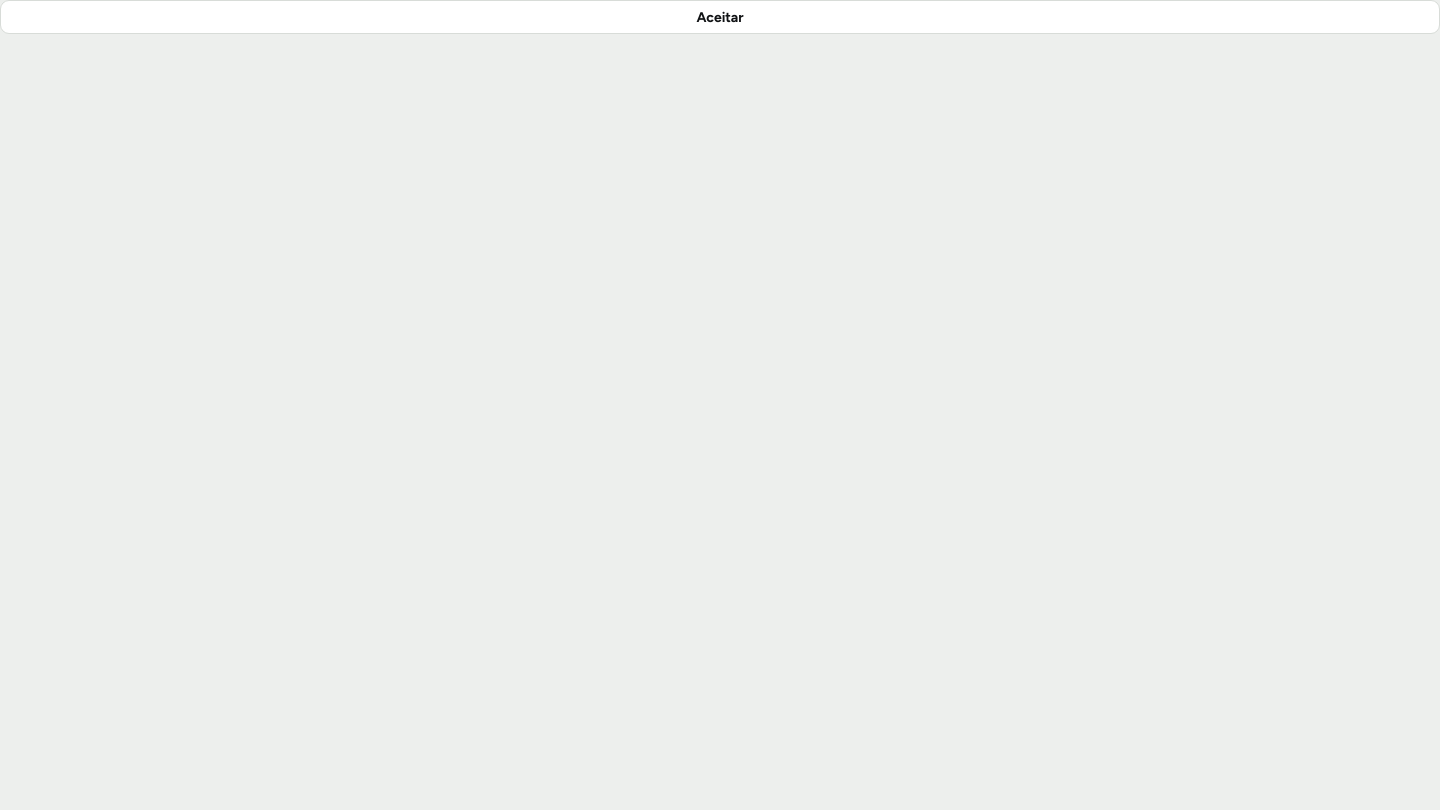
Test: confirmações do sistema (sem diálogos nativos) › ConfirmButton abre modal próprio e só executa ao confirmar
Later steps or results of the test are not shown.
Click the button "Aceitar": (720, 17) [0,0,1439,34]
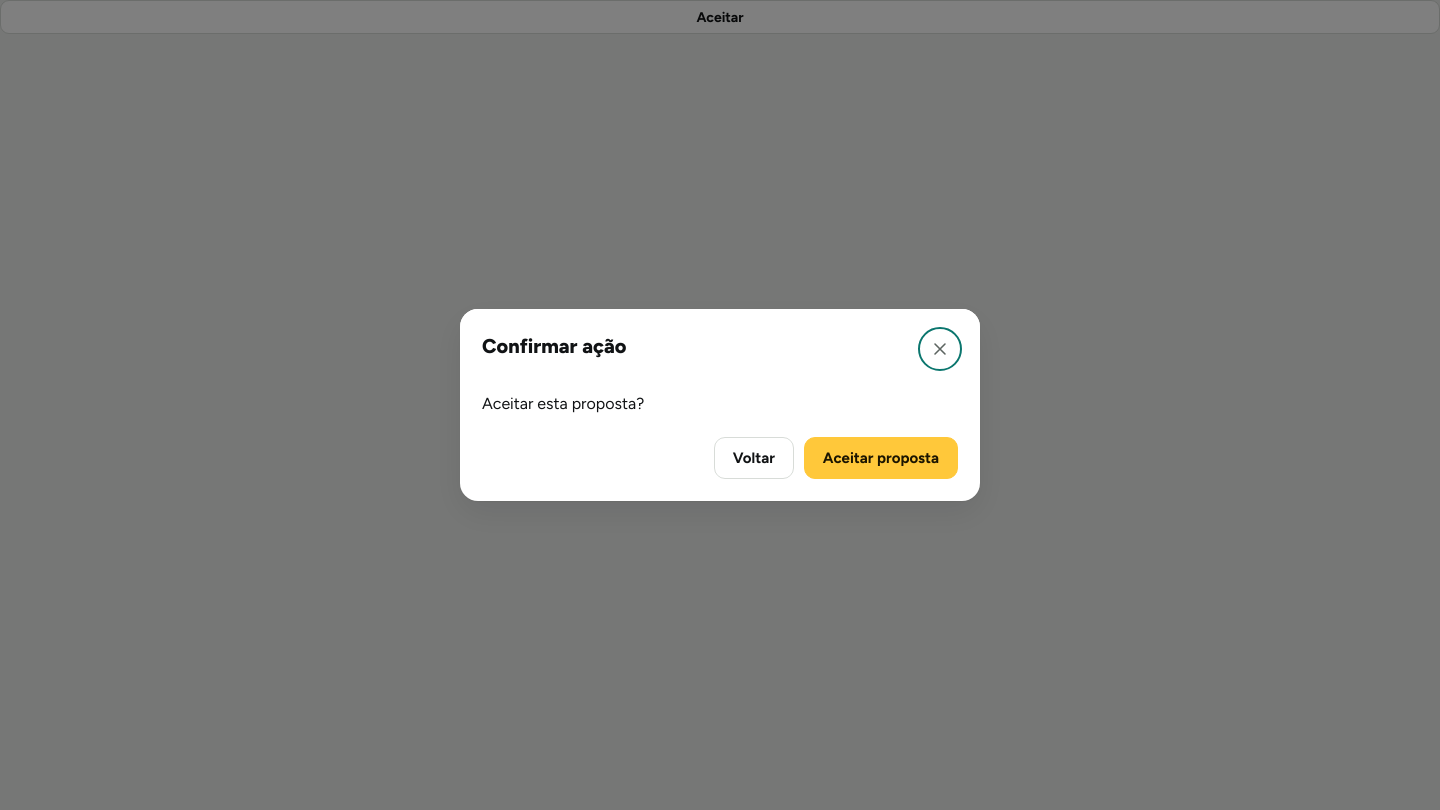
Expected: the text "Aceitar esta proposta?" is shown, [482,394,644,413]
